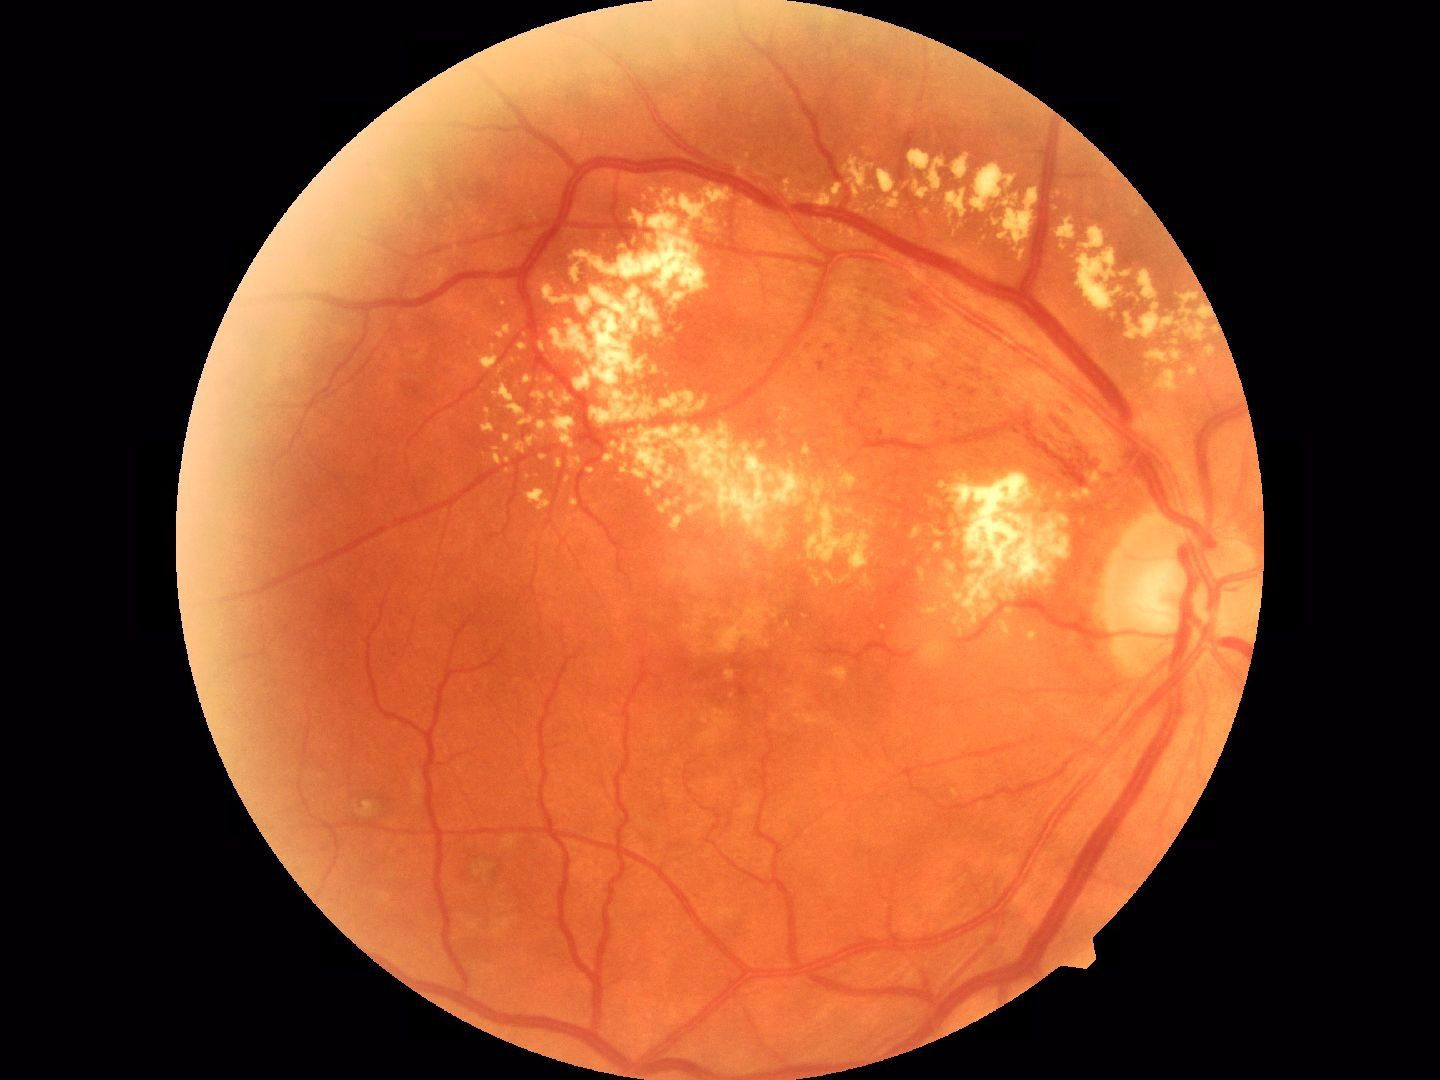Arterioles: (400, 652, 728, 920)
Exudates: (547, 206, 711, 473), (723, 430, 869, 577), (935, 471, 1073, 619), (871, 125, 1035, 244)
Optic-Disc: (1112, 497, 1247, 668)
Venules: (896, 265, 1094, 370), (1040, 744, 1112, 940)
